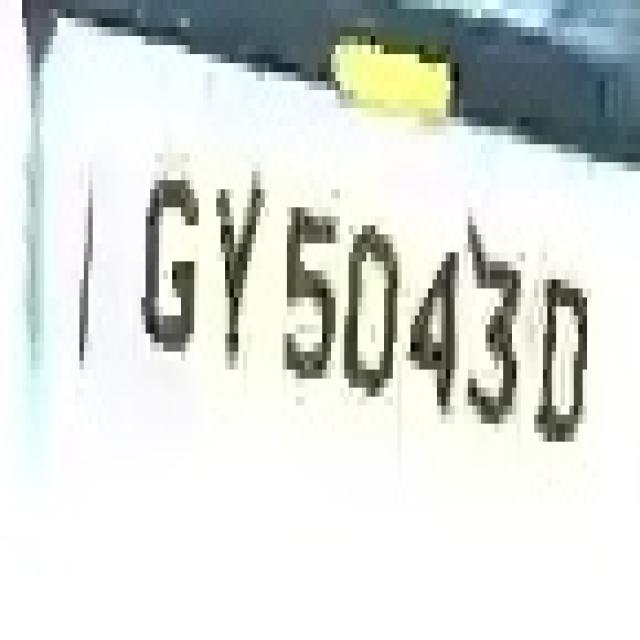0: (336, 198, 402, 424)
3: (450, 171, 525, 433)
4: (393, 180, 459, 424)
5: (270, 180, 336, 424)
D: (530, 252, 600, 478)
G: (132, 135, 203, 370)
Y: (190, 126, 260, 406)
